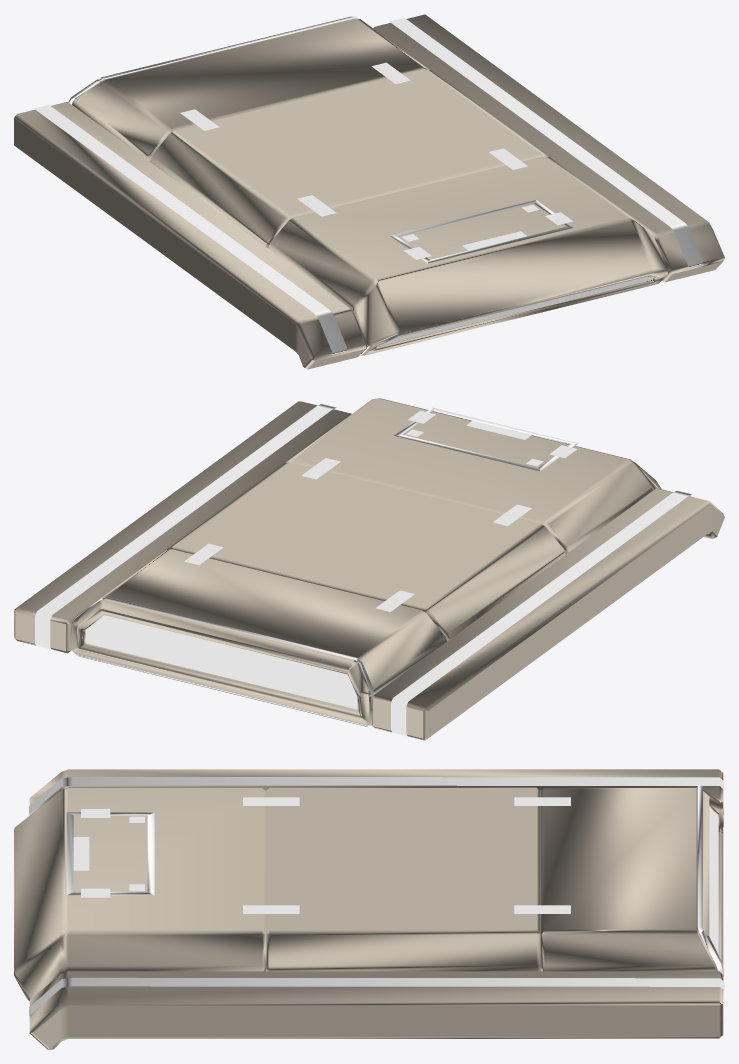
Rendered from barrier_flat_02x025x0025.glb.
3 views of the same model, one above another, from view 1: azimuth 30°, elevation 25°; view 2: azimuth 150°, elevation 25°; view 3: azimuth 270°, elevation 25° (orthographic). The views are drawn at different scales.
Size of the model in its own units: 2 by 0.323 by 2.56.
